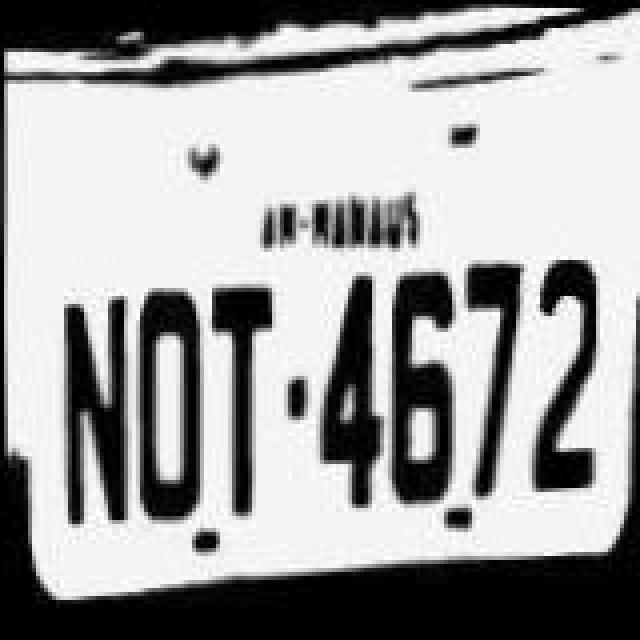2: (526, 250, 618, 502)
4: (310, 266, 390, 514)
6: (378, 266, 458, 510)
7: (452, 246, 532, 506)
N: (48, 284, 132, 540)
O: (124, 278, 208, 526)
T: (200, 278, 284, 522)
